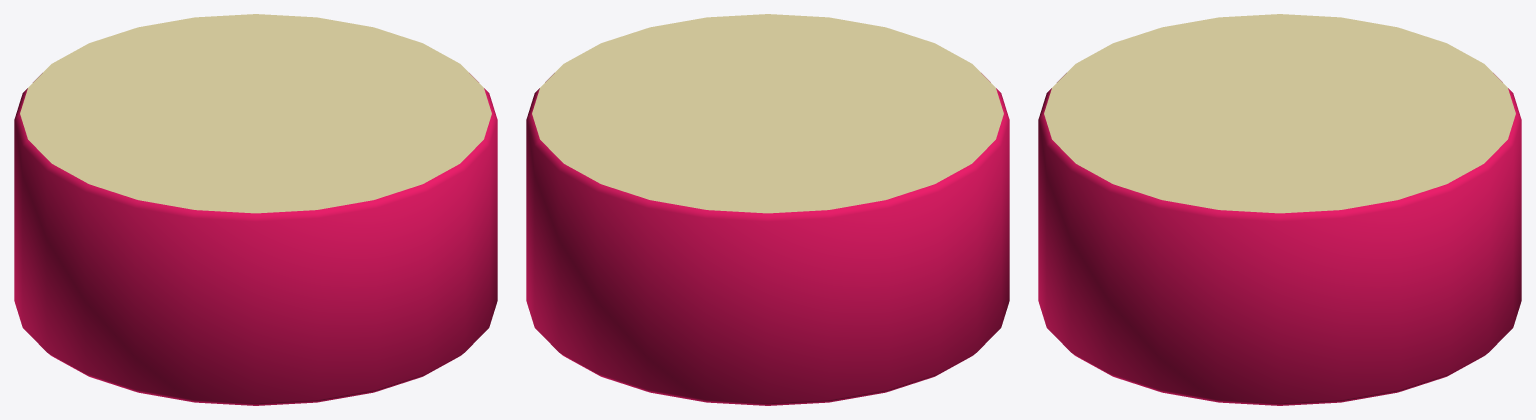
Rendered from paint.fbx.
3 views of the same model, side by side, from view 1: azimuth 30°, elevation 25°; view 2: azimuth 150°, elevation 25°; view 3: azimuth 270°, elevation 25° (orthographic).
Parts seen in each view (by area): view 1: Cylinder, texture; view 2: Cylinder, texture; view 3: Cylinder, texture.
Part boxes in pixels (left/top/right/bottom): Cylinder: left=14, top=73, right=497, bottom=405; texture: left=20, top=14, right=491, bottom=213; Cylinder: left=526, top=73, right=1009, bottom=405; texture: left=532, top=14, right=1003, bottom=213; Cylinder: left=1038, top=73, right=1521, bottom=405; texture: left=1044, top=14, right=1515, bottom=213.
Bounding box in the file's own units: 109 × 47.75 × 109.
